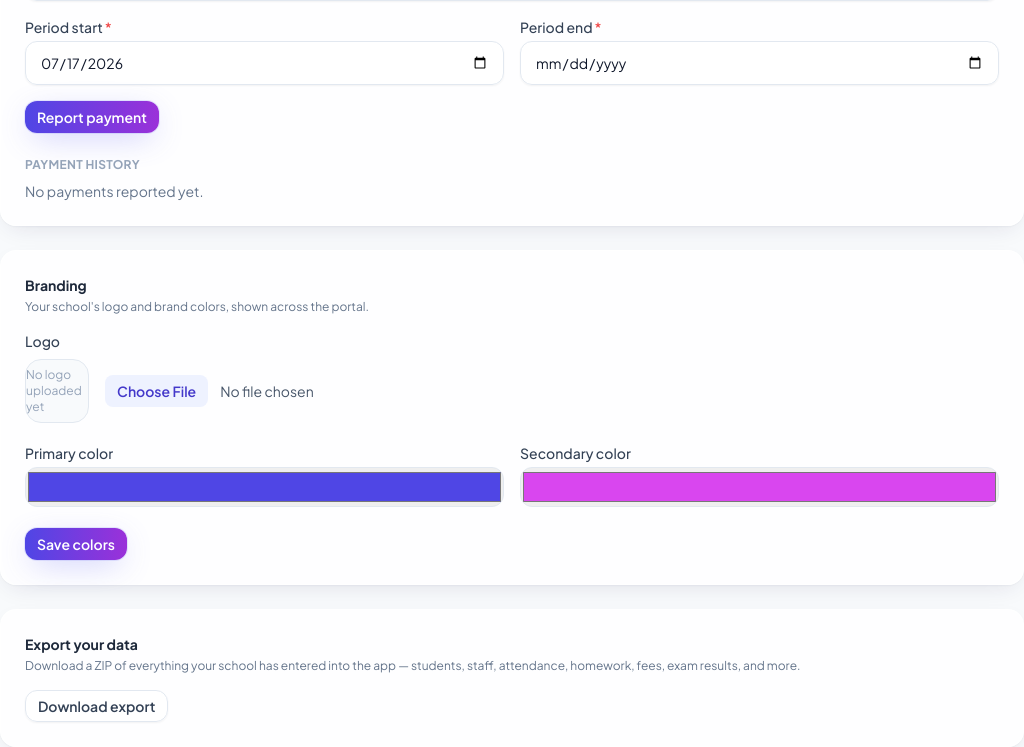
Test case: AccountPage › saves brand colors and shows a confirmation
(page scrolled)
Click the button "Save colors" at (76, 544), box [25,528,127,560]
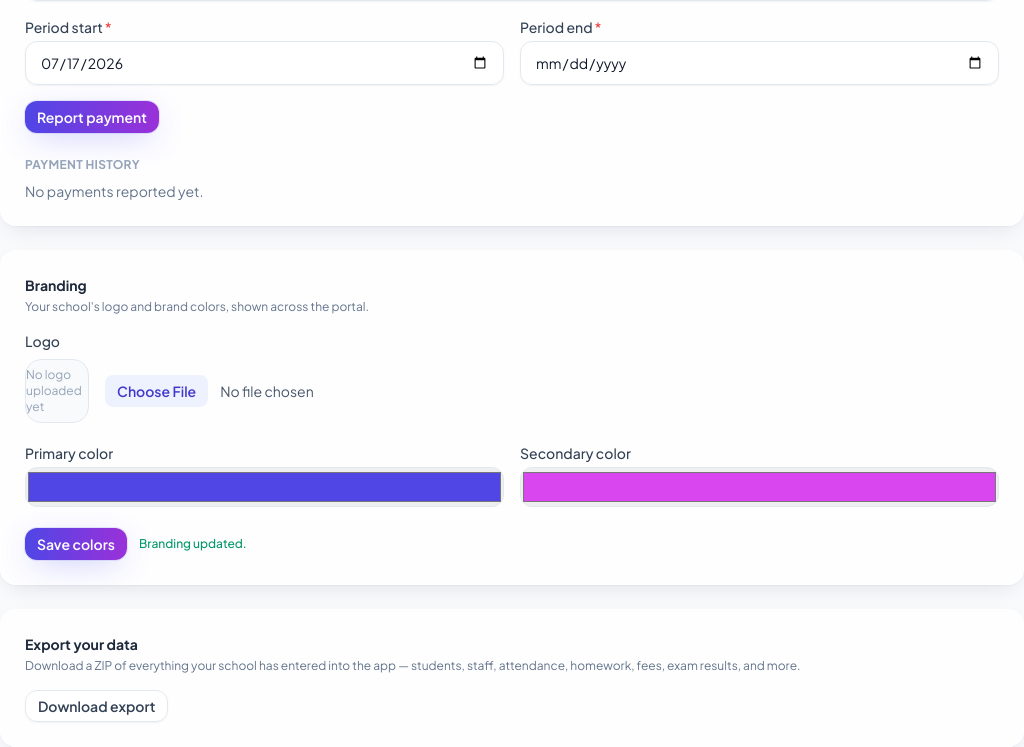
Check: the text "Branding updated." is shown, box [139,536,247,552]
